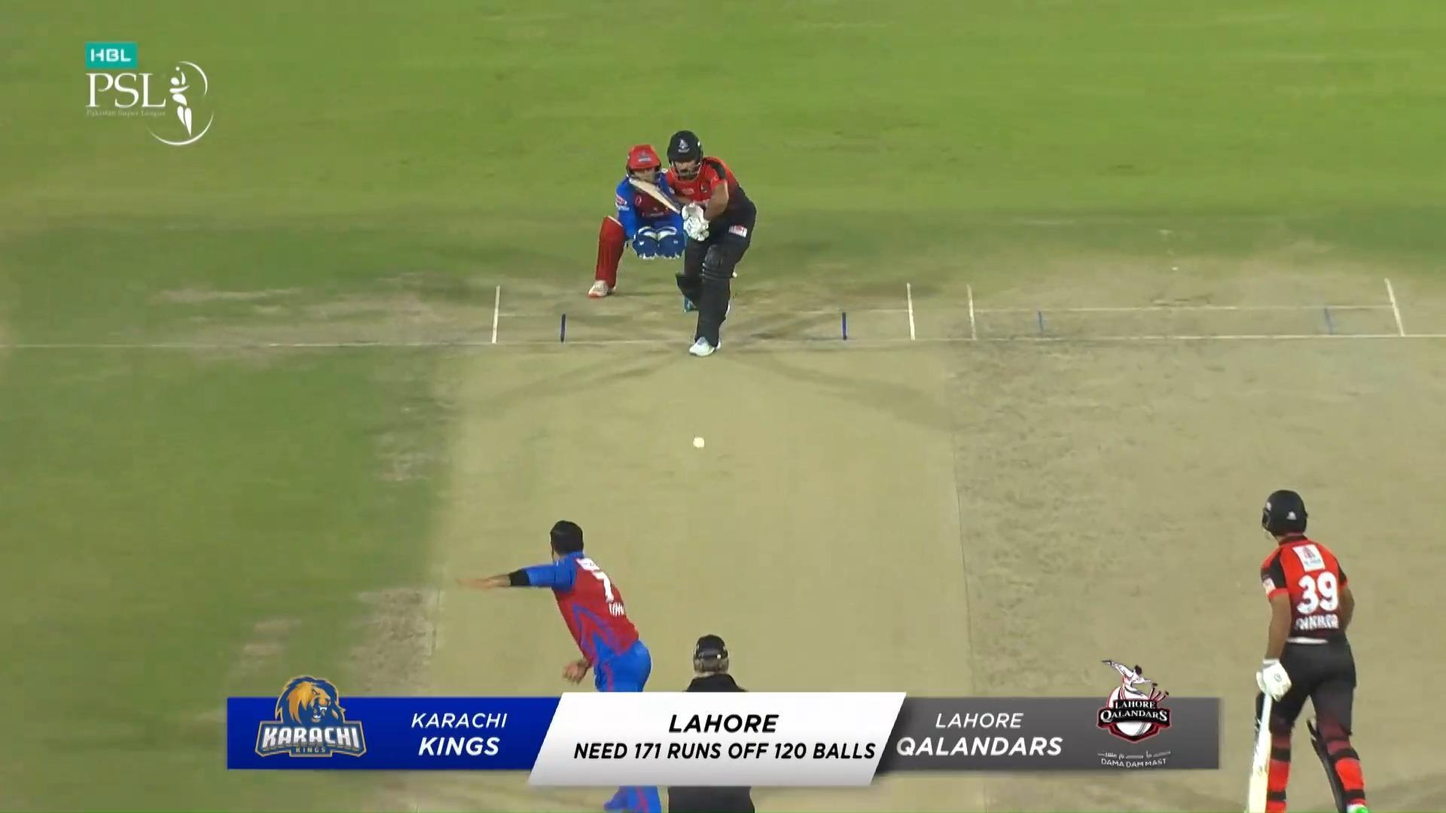BM 1: (626, 129, 759, 359)
BO: (454, 518, 666, 813)
